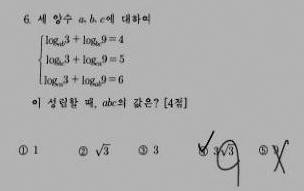choice: (195, 142, 209, 158)
not-choice: (16, 144, 29, 156), (136, 144, 149, 156), (77, 145, 89, 157), (257, 144, 269, 156)
